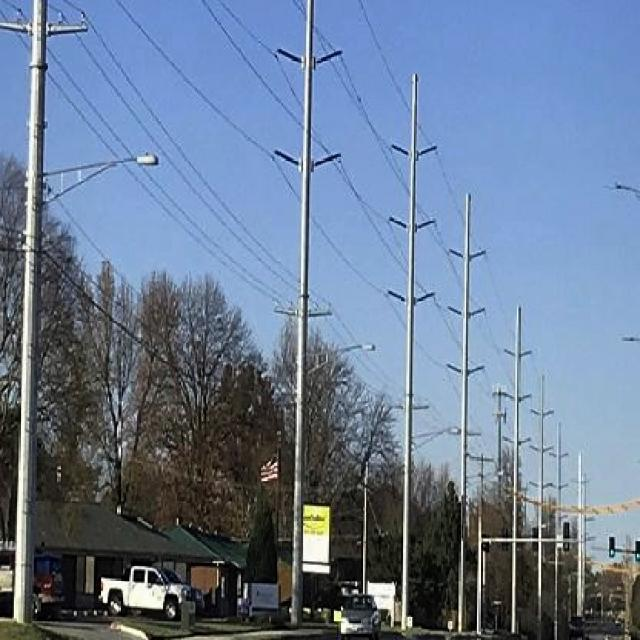crossarm: (275, 149, 340, 168), (276, 48, 342, 66), (0, 23, 86, 35), (388, 290, 433, 303), (391, 145, 437, 157), (388, 217, 435, 228), (445, 363, 484, 376), (275, 309, 332, 316), (450, 249, 486, 260), (448, 306, 484, 317), (501, 392, 532, 403), (527, 444, 554, 455), (503, 435, 531, 445), (531, 409, 554, 418), (503, 350, 532, 357), (528, 482, 553, 490)
pole: (14, 0, 46, 622), (288, 0, 315, 624), (400, 75, 417, 631), (457, 194, 470, 631), (511, 306, 520, 631), (553, 419, 561, 640), (537, 377, 543, 627), (577, 451, 583, 618)
wire: (115, 0, 408, 331), (0, 9, 295, 312), (8, 0, 298, 308), (47, 3, 300, 294), (63, 0, 299, 282), (202, 0, 393, 222), (315, 35, 411, 196), (338, 157, 429, 294), (359, 1, 434, 148), (219, 1, 306, 115), (338, 55, 365, 112), (316, 26, 337, 52), (292, 1, 308, 22), (298, 1, 309, 16)
